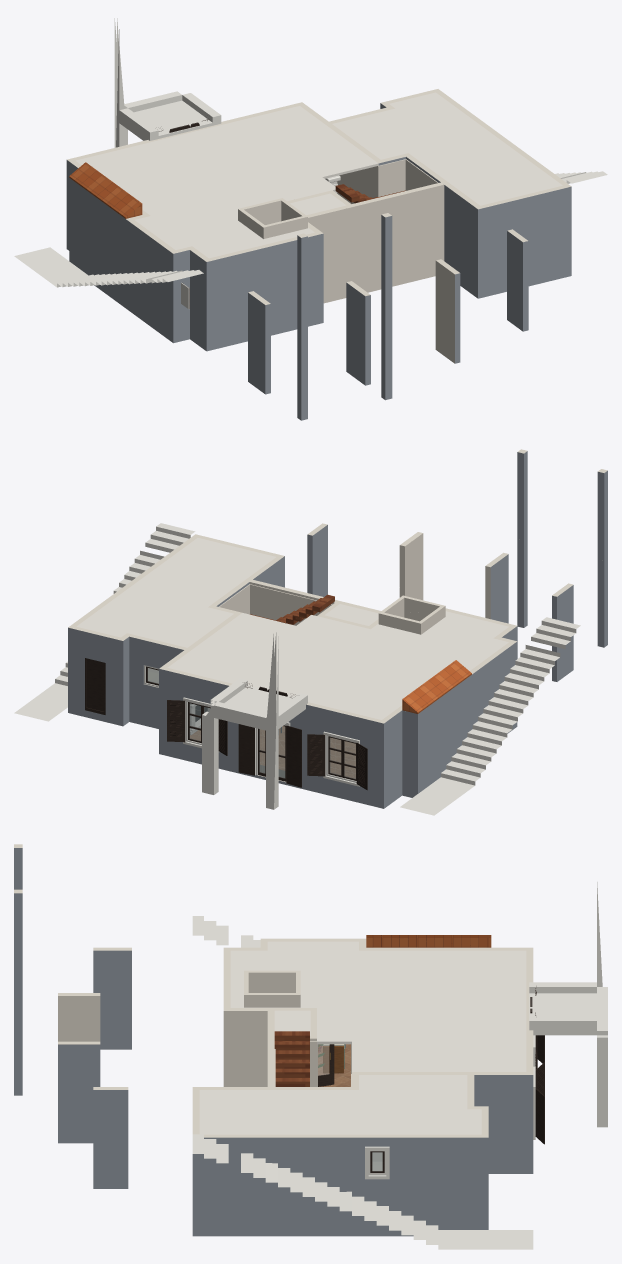
File: villa-f0.glb
The picture shows the model from 3 angles, top to bottom: view 1: azimuth 30°, elevation 25°; view 2: azimuth 150°, elevation 25°; view 3: azimuth 270°, elevation 25°; orthographic projection. The views are drawn at different scales.
Visible parts, largest first — view 1: F0 | KAT 0$DUVAR, F0 | KAT 0$TAVAN, F0 | ek dalgalar, F0 | KAT 0$DUVAR KAPLAMA, F0 | ÇATII, Lift shaft back wall, Lift lintel wall; view 2: F0 | KAT 0$DUVAR, F0 | KAT 0$TAVAN, F0 | ek dalgalar, F0 | PENCERE_KAPI$SHUTTER, F0 | PENCERE_KAPI$CAM, F0 | KAT 0$DUVAR KAPLAMA, F0 | ÇATII, F0 | KAT 0$ZEMİN KAPLAMA, F0 | PENCERE_KAPI$ÇERÇEVE, F0 | PENCERE_KAPI$PENCERE KAPI, F0 | KAT 0$MERDİVEN, Lift shaft back wall (+3 smaller); view 3: F0 | KAT 0$DUVAR, F0 | KAT 0$TAVAN, F0 | ek dalgalar, F0 | KAT 0$MERDİVEN, F0 | ÇATII, Lift shaft side wall, F0 | PENCERE_KAPI$SHUTTER, Lift shaft side wall.001, F0 | PENCERE_KAPI$CEPHE FRAME, F0 | KAT 0$ZEMİN KAPLAMA, F0 | KAT 0$DUVAR KAPLAMA.
Boxes of the visible parts, bbox=[...] form: F0 | KAT 0$DUVAR: bbox=[66, 89, 571, 420]; F0 | KAT 0$TAVAN: bbox=[76, 92, 562, 258]; F0 | ek dalgalar: bbox=[14, 18, 607, 287]; F0 | KAT 0$DUVAR KAPLAMA: bbox=[337, 159, 438, 203]; F0 | ÇATII: bbox=[69, 162, 142, 218]; Lift shaft back wall: bbox=[262, 216, 307, 238]; Lift lintel wall: bbox=[246, 200, 277, 224]; F0 | KAT 0$DUVAR: bbox=[68, 449, 607, 808]; F0 | KAT 0$TAVAN: bbox=[76, 538, 508, 719]; F0 | ek dalgalar: bbox=[14, 523, 580, 815]; F0 | PENCERE_KAPI$SHUTTER: bbox=[167, 687, 367, 790]; F0 | PENCERE_KAPI$CAM: bbox=[147, 668, 355, 778]; F0 | KAT 0$DUVAR KAPLAMA: bbox=[219, 584, 332, 625]; F0 | ÇATII: bbox=[402, 660, 471, 713]; F0 | KAT 0$ZEMİN KAPLAMA: bbox=[148, 668, 355, 778]; F0 | PENCERE_KAPI$ÇERÇEVE: bbox=[146, 666, 356, 781]; F0 | PENCERE_KAPI$PENCERE KAPI: bbox=[85, 658, 105, 714]; F0 | KAT 0$MERDİVEN: bbox=[250, 594, 334, 624]; Lift shaft back wall: bbox=[402, 595, 445, 621]; F0 | KAT 0$DUVAR: bbox=[14, 844, 533, 1236]; F0 | KAT 0$TAVAN: bbox=[199, 941, 526, 1134]; F0 | ek dalgalar: bbox=[192, 882, 607, 1249]; F0 | KAT 0$MERDİVEN: bbox=[274, 1031, 309, 1086]; F0 | ÇATII: bbox=[366, 935, 491, 947]; Lift shaft side wall: bbox=[244, 970, 300, 992]; F0 | PENCERE_KAPI$SHUTTER: bbox=[535, 991, 544, 1144]; Lift shaft side wall.001: bbox=[244, 993, 300, 1007]; F0 | PENCERE_KAPI$CEPHE FRAME: bbox=[365, 1035, 535, 1179]; F0 | KAT 0$ZEMİN KAPLAMA: bbox=[318, 1044, 382, 1170]; F0 | KAT 0$DUVAR KAPLAMA: bbox=[274, 1041, 382, 1161].
Size of the model in its own units: 15.98 by 6.7 by 16.87.
31 materials, 31 textured.
